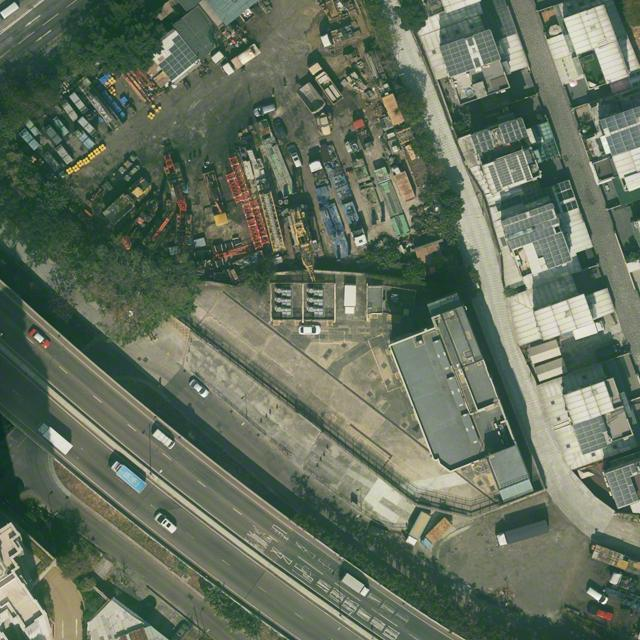panel: (440, 38, 475, 77), (503, 210, 555, 236), (573, 418, 608, 455), (538, 231, 572, 268), (507, 226, 557, 249), (606, 468, 633, 508), (474, 30, 501, 65), (498, 117, 530, 146), (172, 35, 198, 65), (158, 54, 185, 81), (168, 43, 193, 71), (605, 111, 638, 132), (470, 130, 495, 155), (611, 129, 635, 153), (502, 212, 527, 227), (529, 203, 555, 217), (625, 477, 639, 503), (535, 219, 560, 231), (560, 199, 579, 213), (557, 188, 575, 202), (553, 180, 572, 192), (606, 136, 618, 154), (533, 240, 543, 258), (597, 416, 608, 432), (621, 465, 633, 477), (599, 119, 608, 130), (474, 57, 482, 67), (630, 464, 638, 474), (467, 36, 474, 47)
